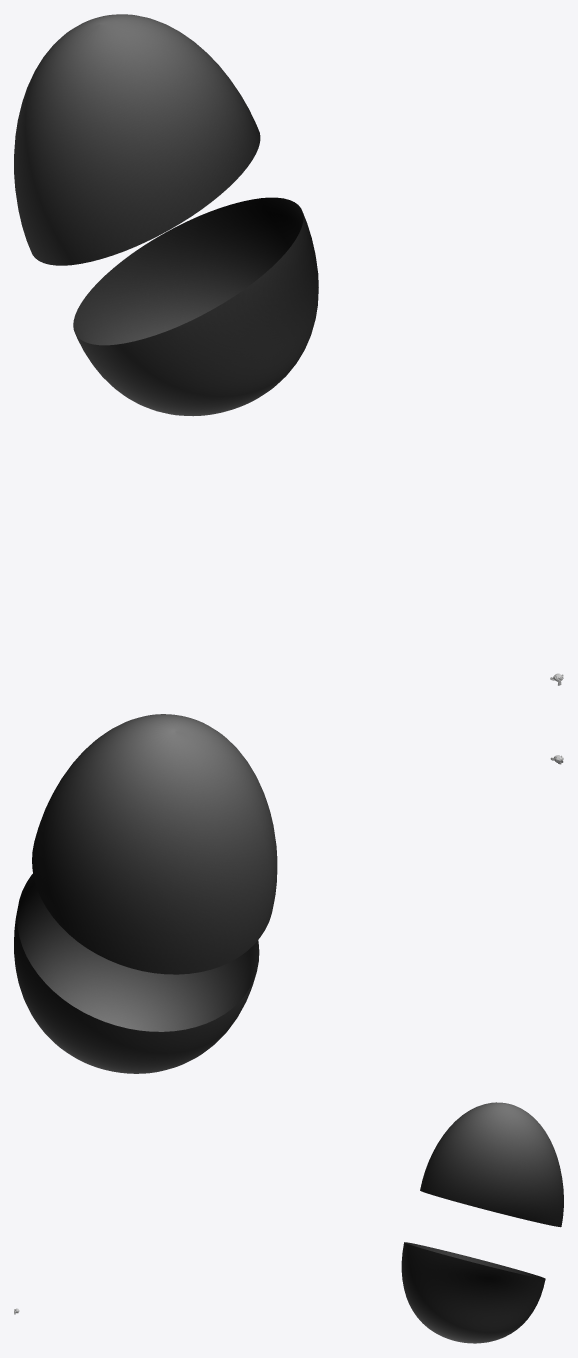
The model's file is egg_hatched.obj.
3 views of the same model, one above another, from view 1: azimuth 30°, elevation 25°; view 2: azimuth 150°, elevation 25°; view 3: azimuth 270°, elevation 25° (orthographic). The views are drawn at different scales.
Parts seen in each view (by area): view 1: 12172_Egg_v1_l2.002, 12172_Egg_v1_l2.001_12172_Egg_v1_l2.003; view 2: 12172_Egg_v1_l2.002, 12172_Egg_v1_l2.001_12172_Egg_v1_l2.003; view 3: 12172_Egg_v1_l2.002, 12172_Egg_v1_l2.001_12172_Egg_v1_l2.003.
Boxes of the visible parts, bbox=[...] form: 12172_Egg_v1_l2.002: bbox=[14, 14, 260, 265]; 12172_Egg_v1_l2.001_12172_Egg_v1_l2.003: bbox=[73, 197, 318, 416]; 12172_Egg_v1_l2.002: bbox=[32, 714, 277, 974]; 12172_Egg_v1_l2.001_12172_Egg_v1_l2.003: bbox=[14, 874, 259, 1073]; 12172_Egg_v1_l2.002: bbox=[420, 1102, 563, 1227]; 12172_Egg_v1_l2.001_12172_Egg_v1_l2.003: bbox=[401, 1242, 545, 1343].
Bounding box in the file's own units: 53.03 × 75.22 × 174.
